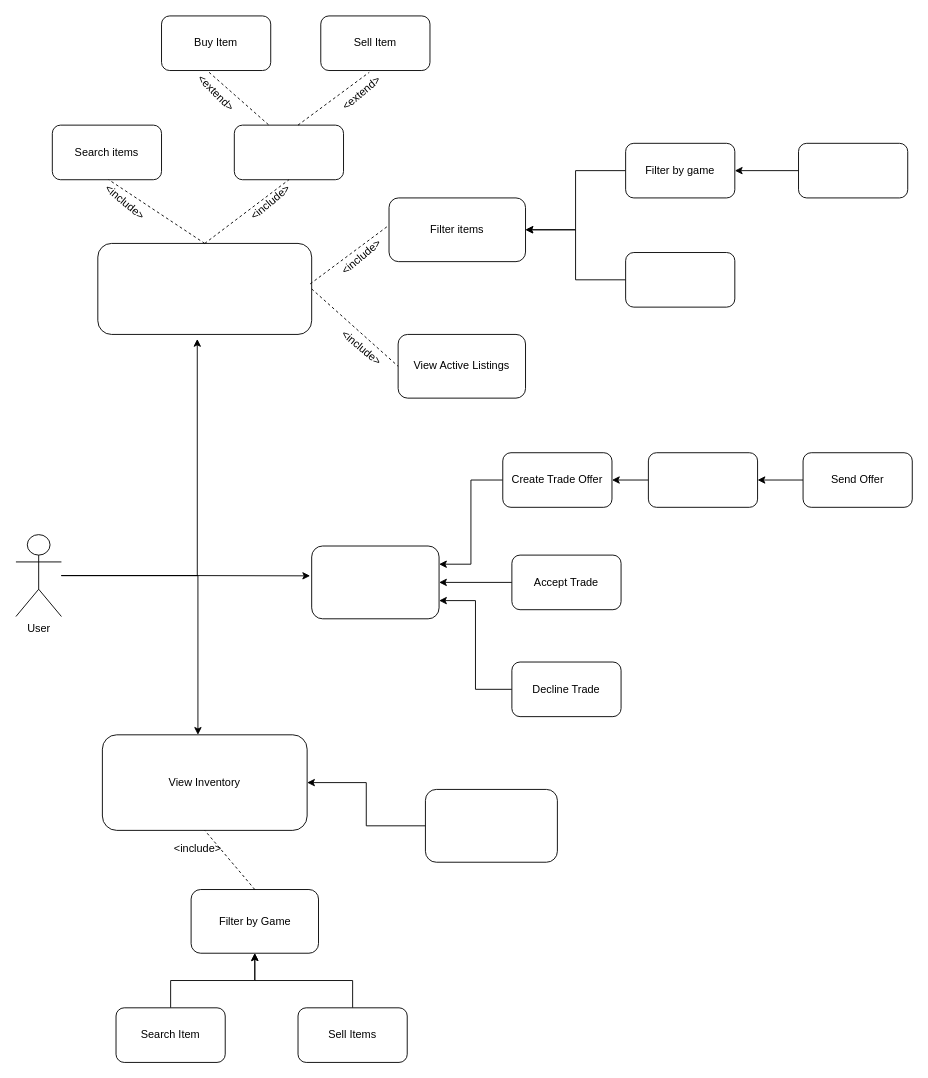
Some shapes in this 928 by 1078 pixel diagram are drawn without their labels. The shapes that lost their labels are listed below. From the top down, each one's centre as x and y in pixels, then its label:
At point (288, 152): "View Item".
At point (853, 170): "Filter by in-game item types".
At point (204, 288): "View Marketplace".
At point (680, 279): "Filter by price".
At point (702, 479): "Preview Trade".
At point (375, 582): "View Trade Offers".
At point (491, 825): "View Trade History".
